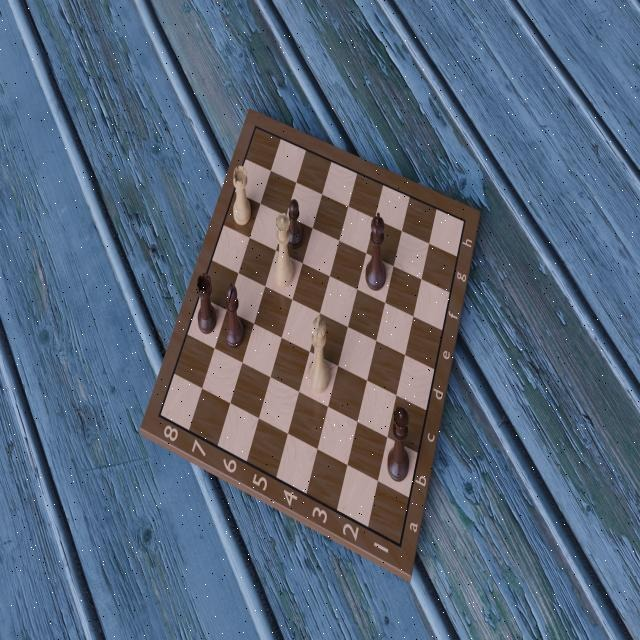black-king: (364, 209, 387, 294)
black-pawn: (283, 198, 304, 252)
black-queen: (387, 403, 412, 487)
black-rook: (195, 271, 220, 337)
white-bishop: (222, 276, 246, 351)
white-king: (305, 310, 333, 398)
white-queen: (272, 210, 296, 290)
white-rook: (228, 164, 253, 228)
